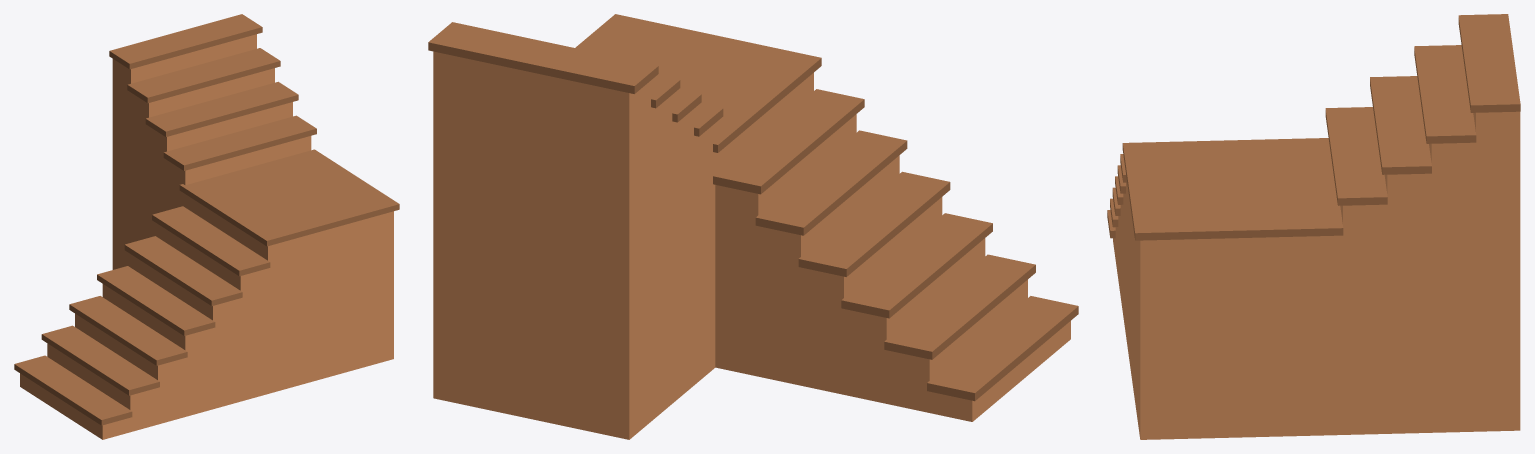
The model's file is stairscorner_lev2.glb.
3 views of the same model, side by side, from view 1: azimuth 30°, elevation 25°; view 2: azimuth 150°, elevation 25°; view 3: azimuth 270°, elevation 25° (orthographic). The views are drawn at different scales.
Parts seen in each view (by area): view 1: stairscorner_lev2; view 2: stairscorner_lev2; view 3: stairscorner_lev2.
Boxes of the visible parts, bbox=[...] form: stairscorner_lev2: bbox=[14, 14, 399, 439]; stairscorner_lev2: bbox=[428, 14, 1078, 439]; stairscorner_lev2: bbox=[1107, 14, 1520, 439].
Bounding box in the file's own units: 31.03 × 22.88 × 26.07.
